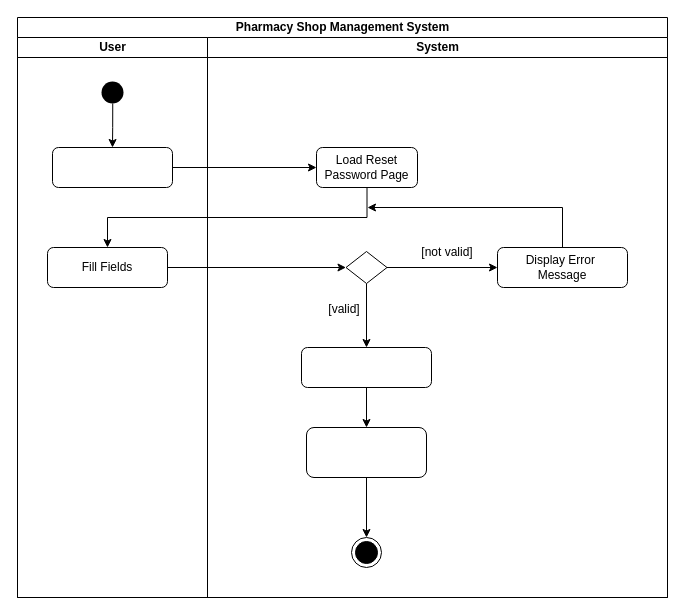
Some shapes in this 685 by 615 pixel diagram are drawn without their labels. Here are the shapes that lost their labels. From the top down, the centre of each, then its label:
the point at 112,167: Click Reset Password
the point at 366,367: Update New Password
the point at 366,452: Display Successfully Updated
